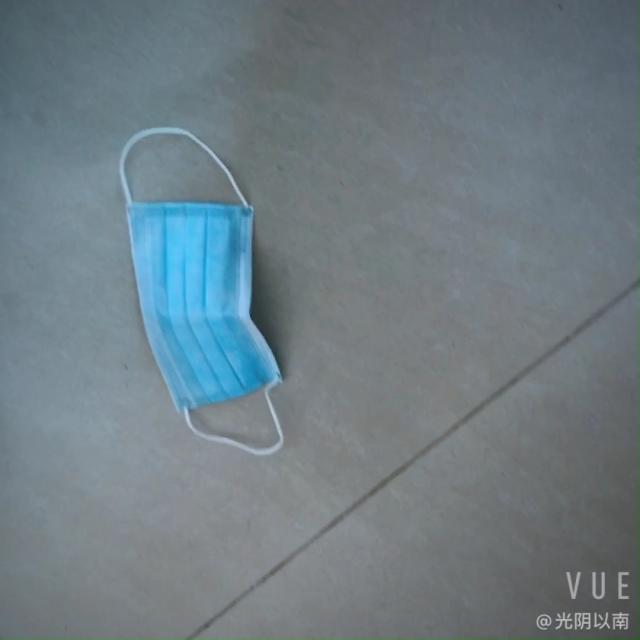face mask: (136, 106, 292, 446)
